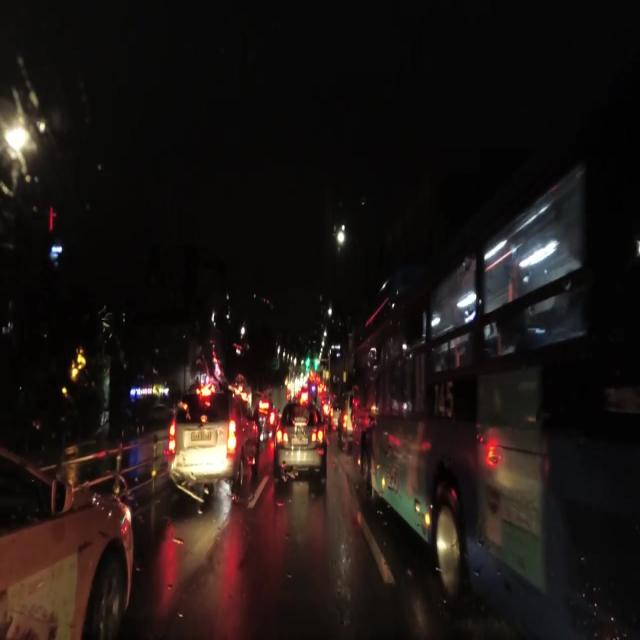Car: (166, 398, 255, 482), (273, 403, 324, 481)
